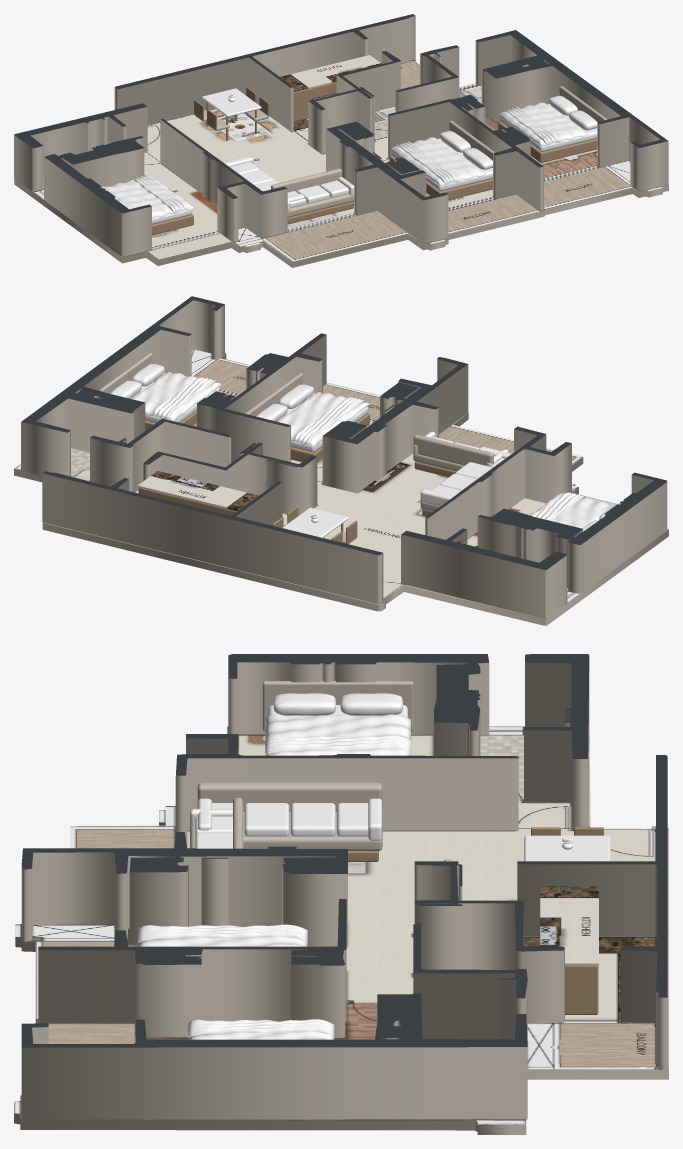
3 renders of one model, top to bottom at view 1: azimuth 30°, elevation 25°; view 2: azimuth 150°, elevation 25°; view 3: azimuth 270°, elevation 25°, orthographic. The views are drawn at different scales.
Parts seen in each view (by area): view 1: Partition walls, Apartment floor, Draped bed linen.002, Draped bed linen.004, Stone worktop, Draped bed linen, Marble dining top, Walnut upholstered base.002, Kitchen cabinets, Sofa back.001, Draped bed linen.003, Draped bed linen.001 (+13 smaller); view 2: Partition walls, Apartment floor, Stone worktop, Draped bed linen.002, Draped bed linen.004, Sofa back.001, Draped bed linen, Marble dining top, Draped bed linen.003, Draped bed linen.005, Kitchen cabinets, Draped bed linen.001 (+3 smaller); view 3: Partition walls, Apartment floor, Stone worktop, Draped bed linen, Sofa back, Upholstered headboard, Marble dining top, Draped bed linen.003, Draped bed linen.001, Upholstered sofa frame, Draped bed linen.005, Kitchen cabinets (+7 smaller).
Part boxes in pixels (box(x1,y1,x2,y2)): Partition walls: box(14, 14, 668, 256); Apartment floor: box(14, 59, 668, 267); Draped bed linen.002: box(389, 137, 485, 185); Draped bed linen.004: box(497, 102, 588, 146); Stone worktop: box(280, 55, 381, 91); Draped bed linen: box(104, 176, 194, 218); Marble dining top: box(201, 88, 261, 116); Walnut upholstered base.002: box(498, 122, 597, 162); Kitchen cabinets: box(293, 82, 336, 121); Sofa back.001: box(271, 168, 342, 192); Draped bed linen.003: box(394, 141, 458, 184); Draped bed linen.001: box(130, 175, 189, 212); Partition walls: box(21, 296, 667, 618); Apartment floor: box(14, 349, 668, 625); Stone worktop: box(137, 471, 258, 511); Draped bed linen.002: box(277, 391, 370, 447); Draped bed linen.004: box(132, 371, 222, 421); Sofa back.001: box(413, 434, 493, 465); Draped bed linen: box(530, 492, 613, 528); Marble dining top: box(282, 507, 348, 537); Draped bed linen.003: box(292, 397, 365, 444); Draped bed linen.005: box(151, 377, 216, 419); Kitchen cabinets: box(138, 487, 237, 515); Draped bed linen.001: box(532, 492, 585, 520); Partition walls: box(21, 654, 667, 1119); Apartment floor: box(14, 726, 668, 1134); Stone worktop: box(540, 886, 598, 965); Draped bed linen: box(265, 714, 410, 755); Sofa back: box(197, 782, 382, 811); Upholstered headboard: box(262, 681, 413, 731); Marble dining top: box(524, 835, 610, 861); Draped bed linen.003: box(137, 924, 307, 943); Draped bed linen.001: box(265, 735, 411, 755); Upholstered sofa frame: box(243, 811, 382, 851); Draped bed linen.005: box(188, 1019, 334, 1038); Kitchen cabinets: box(565, 965, 598, 1014).
Size of the model in its own units: 13.49 by 1.3 by 9.37.
Materials: 9 (1 with a texture image).
